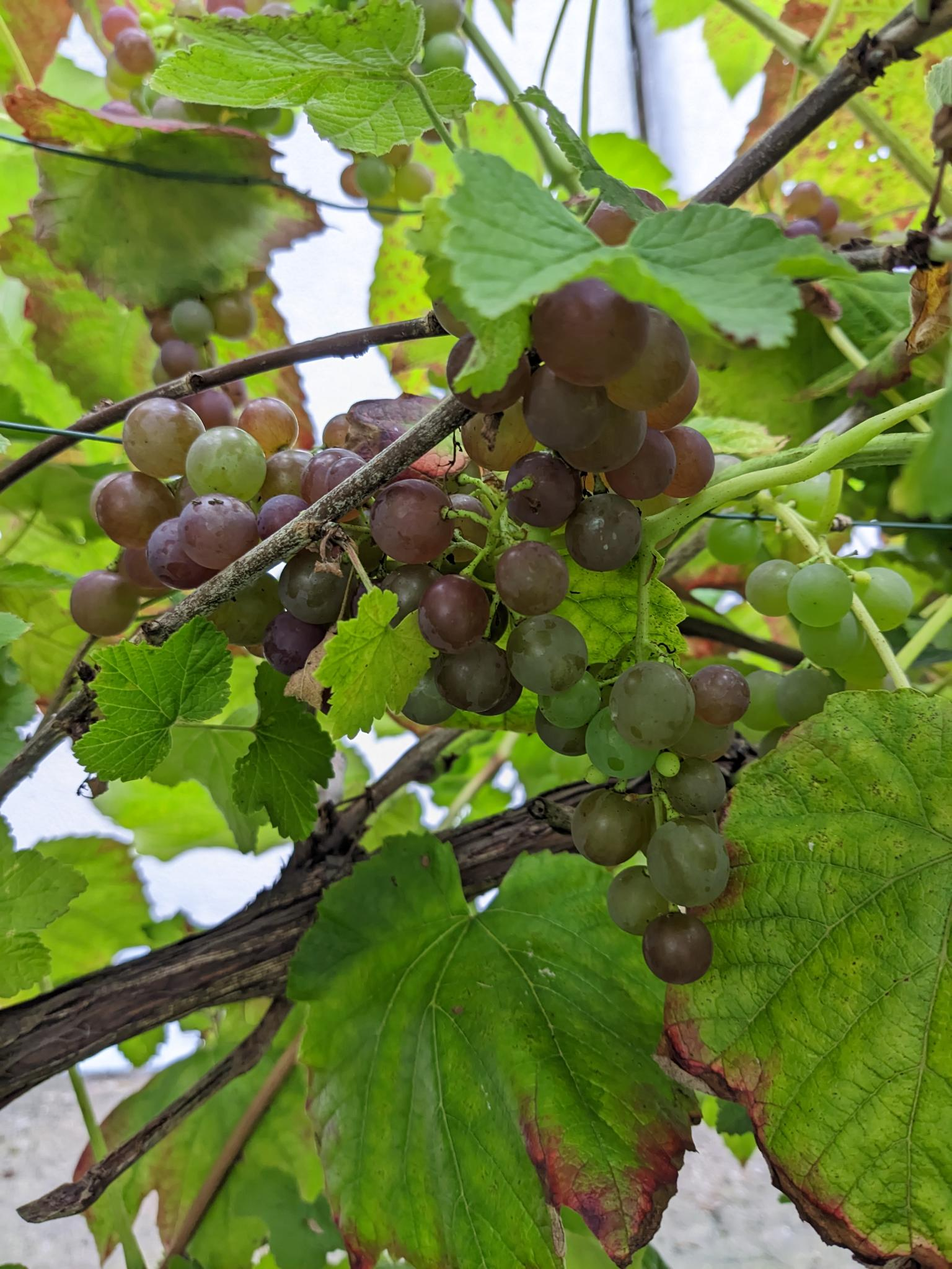Grape Unripe: (468, 278, 749, 984), (65, 383, 412, 676), (95, 0, 469, 228), (711, 470, 917, 769), (124, 296, 260, 400)
